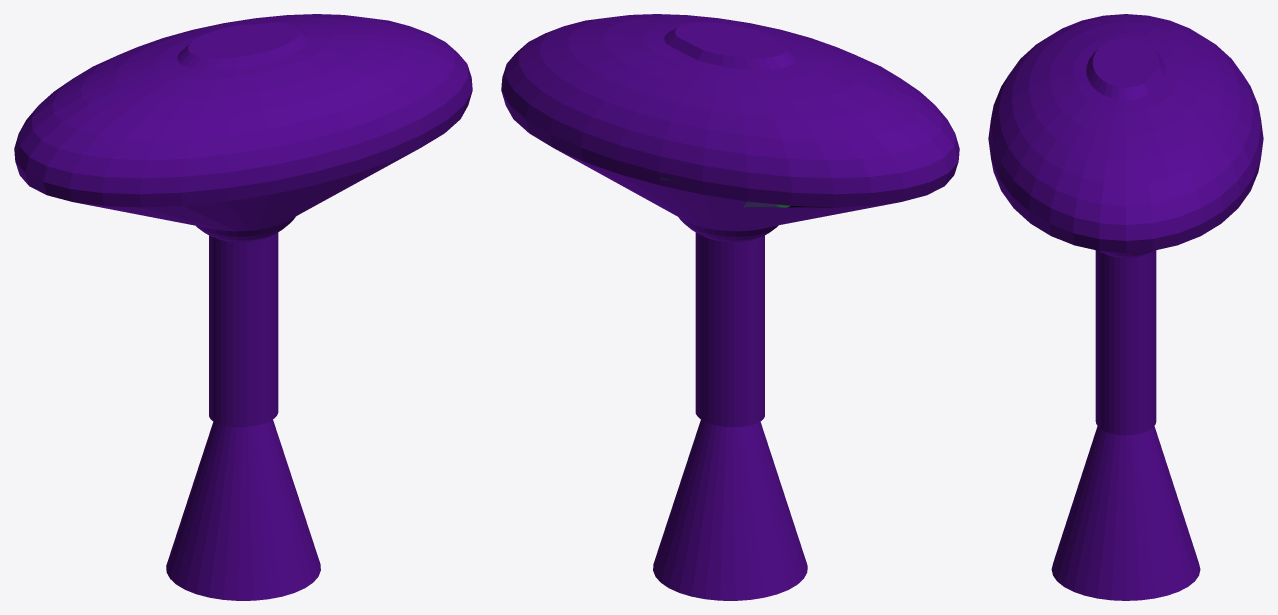
The model's file is mature.glb.
3 views of the same model, side by side, from view 1: azimuth 30°, elevation 25°; view 2: azimuth 150°, elevation 25°; view 3: azimuth 270°, elevation 25° (orthographic). The views are drawn at different scales.
Visible parts, largest first — view 1: Cube.002; view 2: Cube.002; view 3: Cube.002.
Part boxes in pixels (x1,y1,x2,y2): Cube.002: (14,14,472,600); Cube.002: (501,14,959,600); Cube.002: (988,14,1263,600).
Bounding box in the file's own units: 6.5 × 7.51 × 3.7.
Materials: 1 (1 with a texture image).
